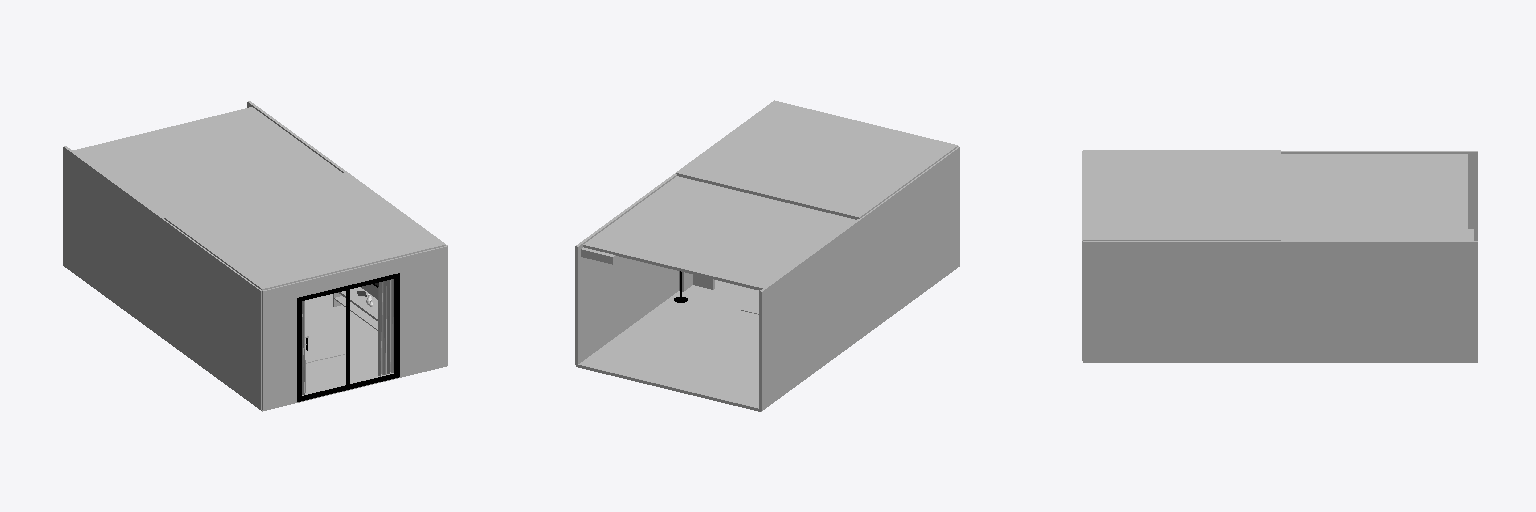
The model's file is room.obj.
3 renders of one model, left to right at view 1: azimuth 30°, elevation 25°; view 2: azimuth 150°, elevation 25°; view 3: azimuth 270°, elevation 25°, orthographic.
Visible parts, largest first — view 1: Cube.001_Cube.002, Cube_Cube.001, Cube.003_Cube.029, Plane_Plane.001, Cube.001_Cube.014, Cube.019_Cube.024; view 2: Cube.001_Cube.002, Cube_Cube.001; view 3: Cube.001_Cube.002, Cube_Cube.001.
Boxes of the visible parts, box(x1,y1,x2,y2) form: Cube.001_Cube.002: box(63, 101, 447, 410); Cube_Cube.001: box(65, 267, 447, 411); Cube.003_Cube.029: box(297, 273, 399, 401); Plane_Plane.001: box(302, 279, 393, 394); Cube.001_Cube.014: box(305, 287, 377, 344); Cube.019_Cube.024: box(305, 324, 344, 363); Cube.001_Cube.002: box(575, 100, 959, 410); Cube_Cube.001: box(576, 275, 947, 411); Cube.001_Cube.002: box(1082, 150, 1477, 360); Cube_Cube.001: box(1083, 361, 1477, 362).
Bounding box in the file's own units: 13.11 × 8.2 × 24.1.